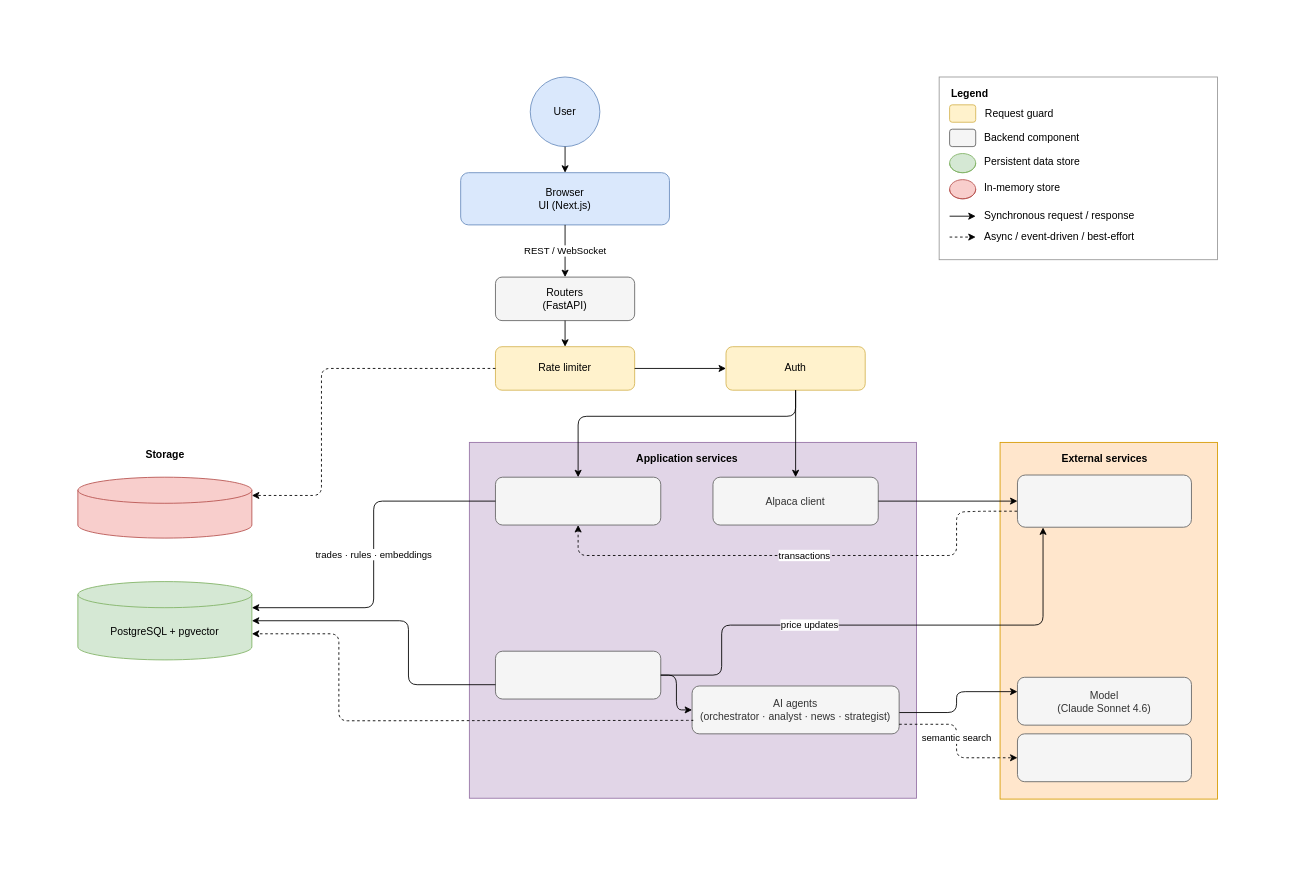
Some shapes in this 1303 by 892 pixel diagram are drawn without their labels. The shapes that lost their labels are listed below. From the top down, each one's box as (x1, y1, x2, y2) in pixels, then its label:
(77, 476, 252, 538): Redis
(495, 476, 661, 525): Execution logger
(1017, 474, 1191, 527): Broker (Alpaca)
(495, 650, 661, 699): Rule engine
(1017, 733, 1191, 782): Vector embeddings (Voyage AI)
